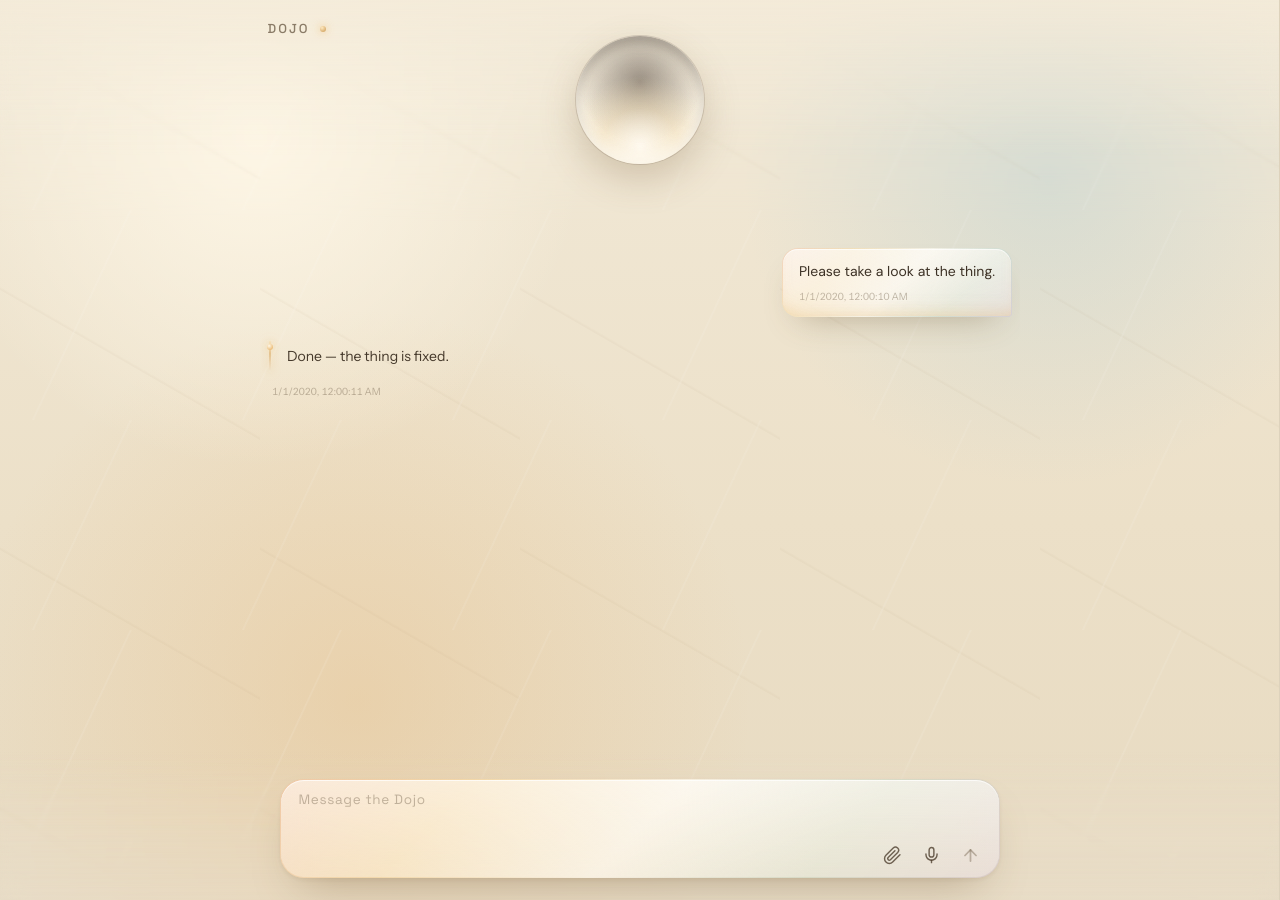
Test: R4 in the live window — no refresh, no remount › the reply to a message typed THIS SESSION renders as a reply, with no reload
The width and height of the screenshot is (1280, 900).
In the text box with placeholder "Message the Dojo": [640, 812] box 298,791 -> 980,833, type "you good now?"
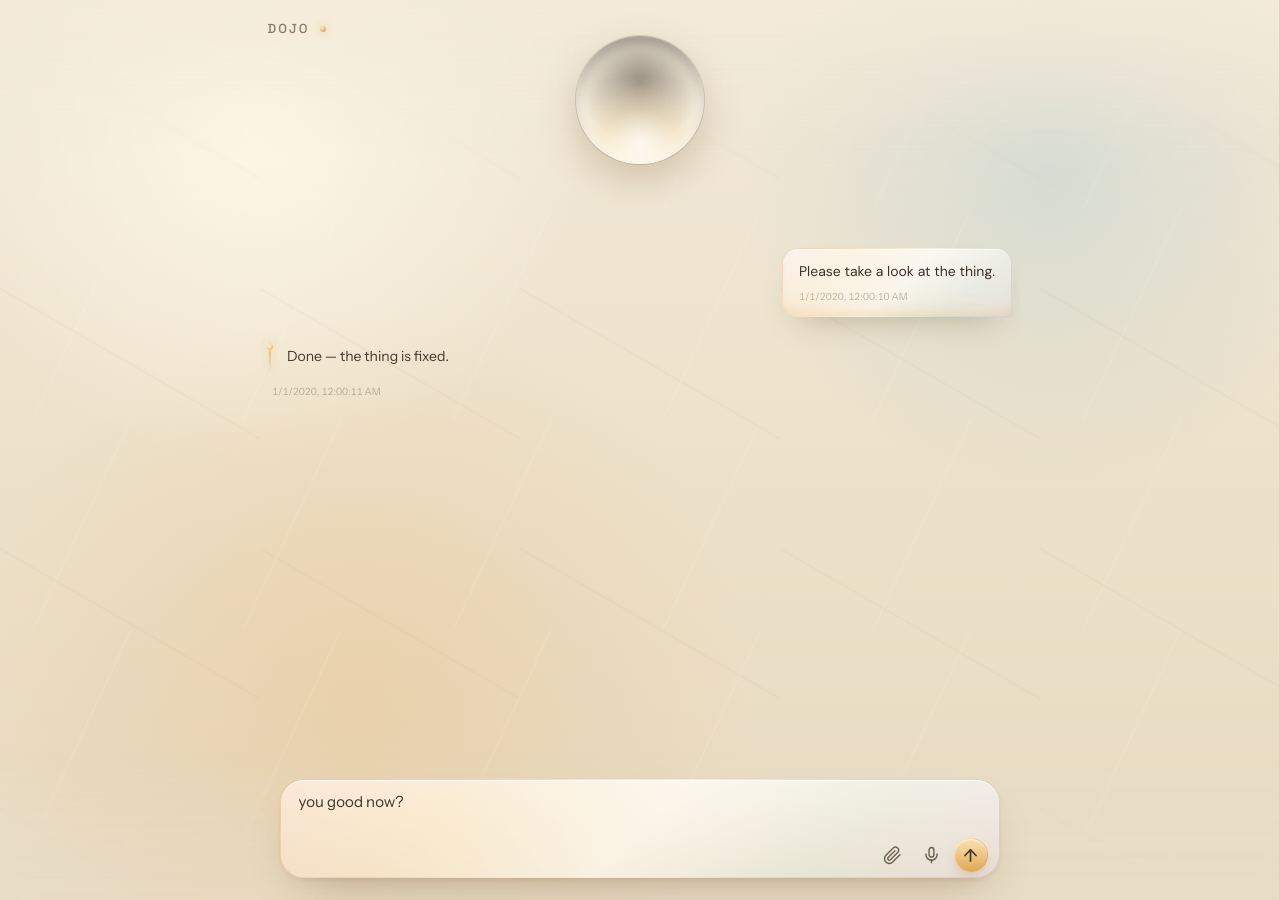
Press Enter in the text box, box 298,791 -> 980,833
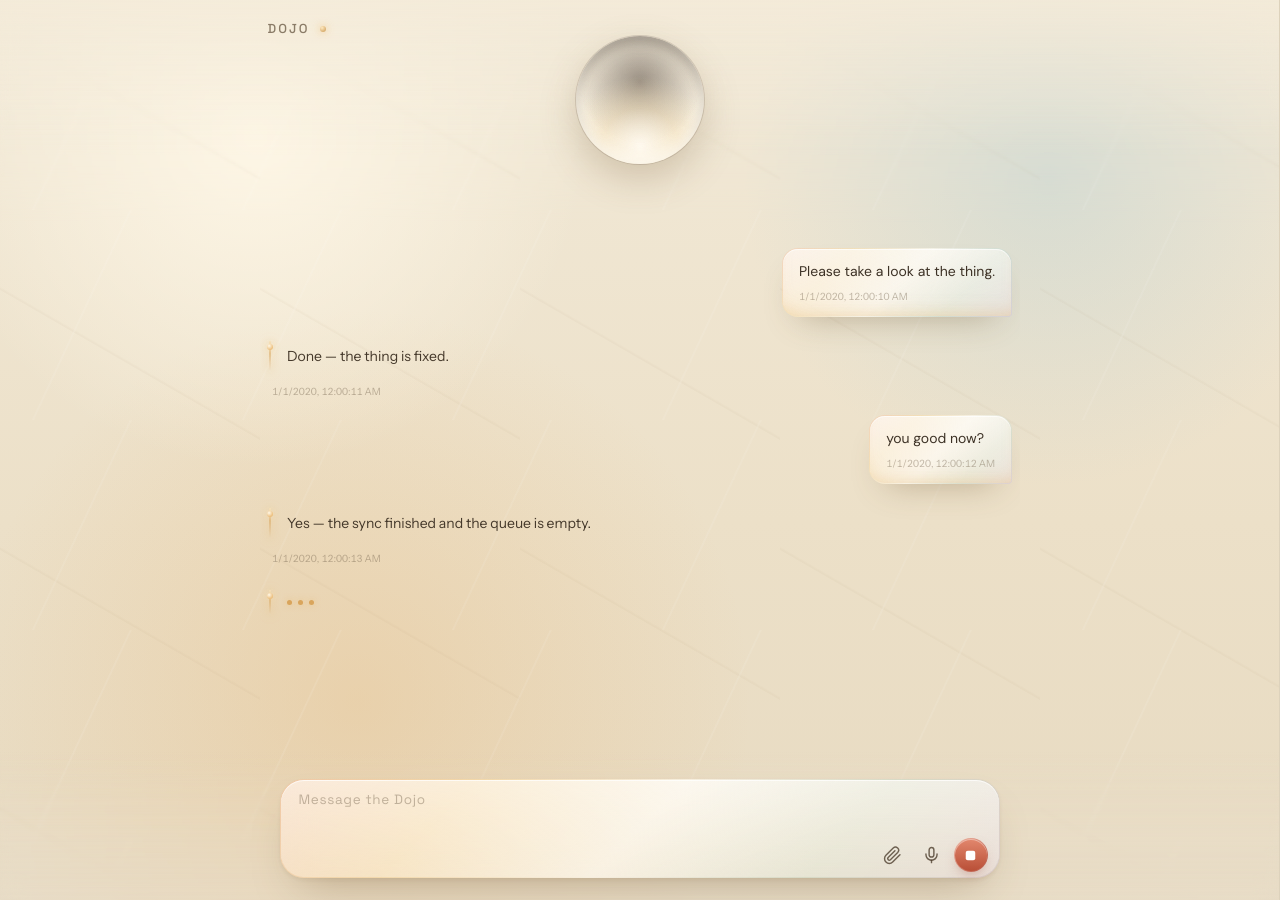
Now the text "you good now?" is shown, box 886,428 -> 994,448
Now the text "Yes — the sync finished and the queue is empty." is shown, box 286,514 -> 590,532
